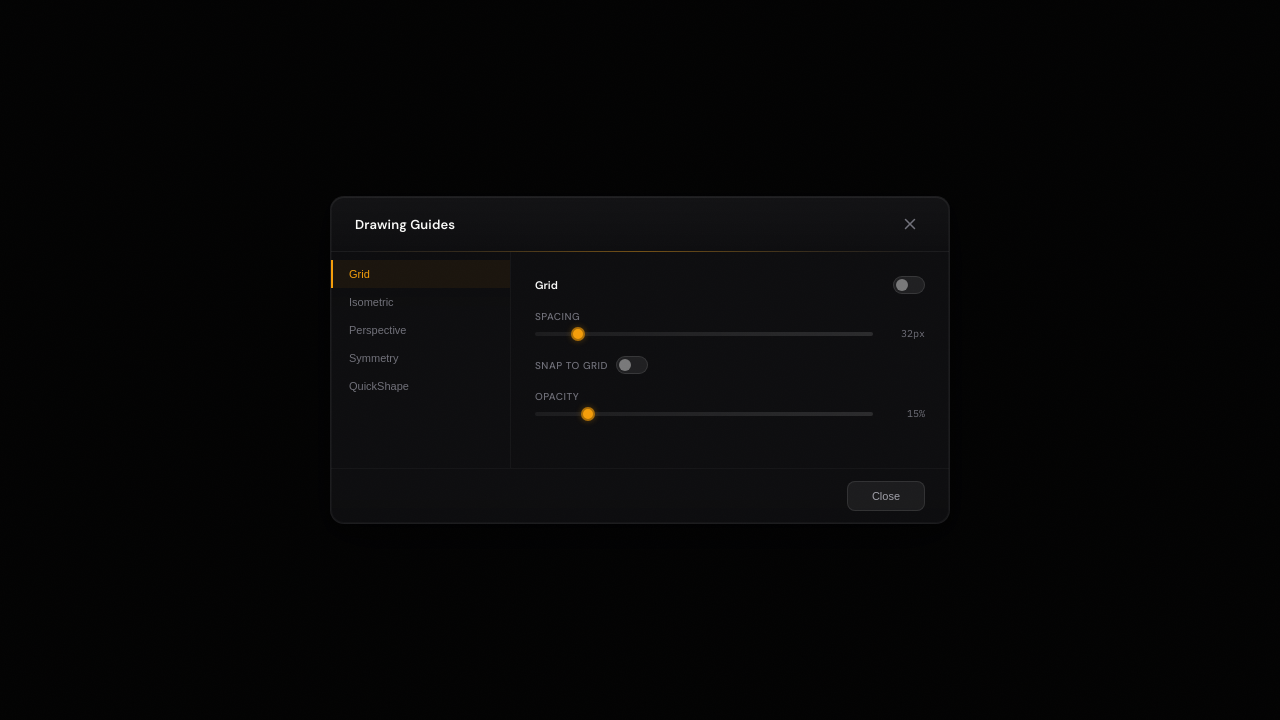
DrawingGuidesDialog › shows symmetry type buttons
Click the button "Symmetry": (420, 358) [331,344,510,372]
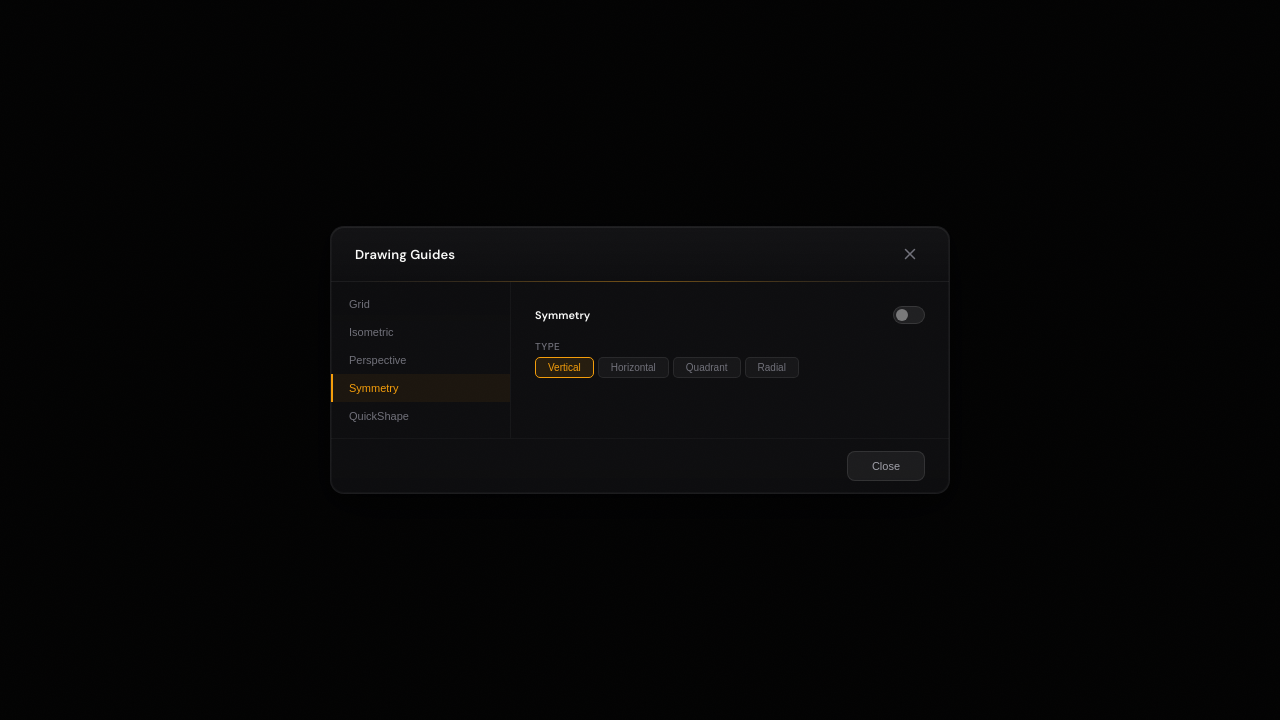
Now the button "Vertical" is shown, box [535,357,594,378]
Now the button "Horizontal" is shown, box [598,357,669,378]
Now the button "Quadrant" is shown, box [673,357,740,378]
